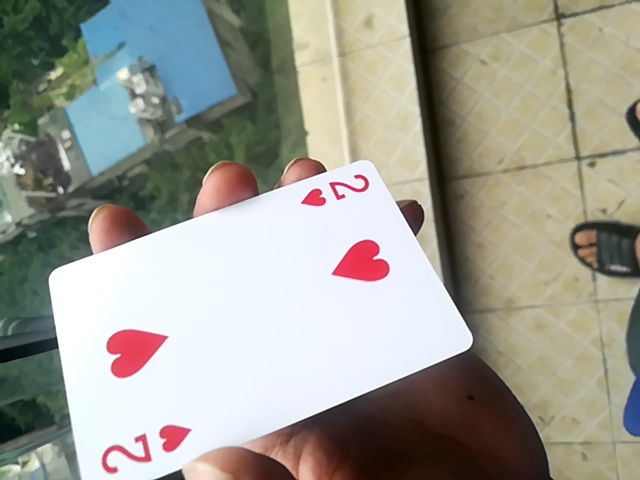hx 2: (40, 155, 479, 480)
